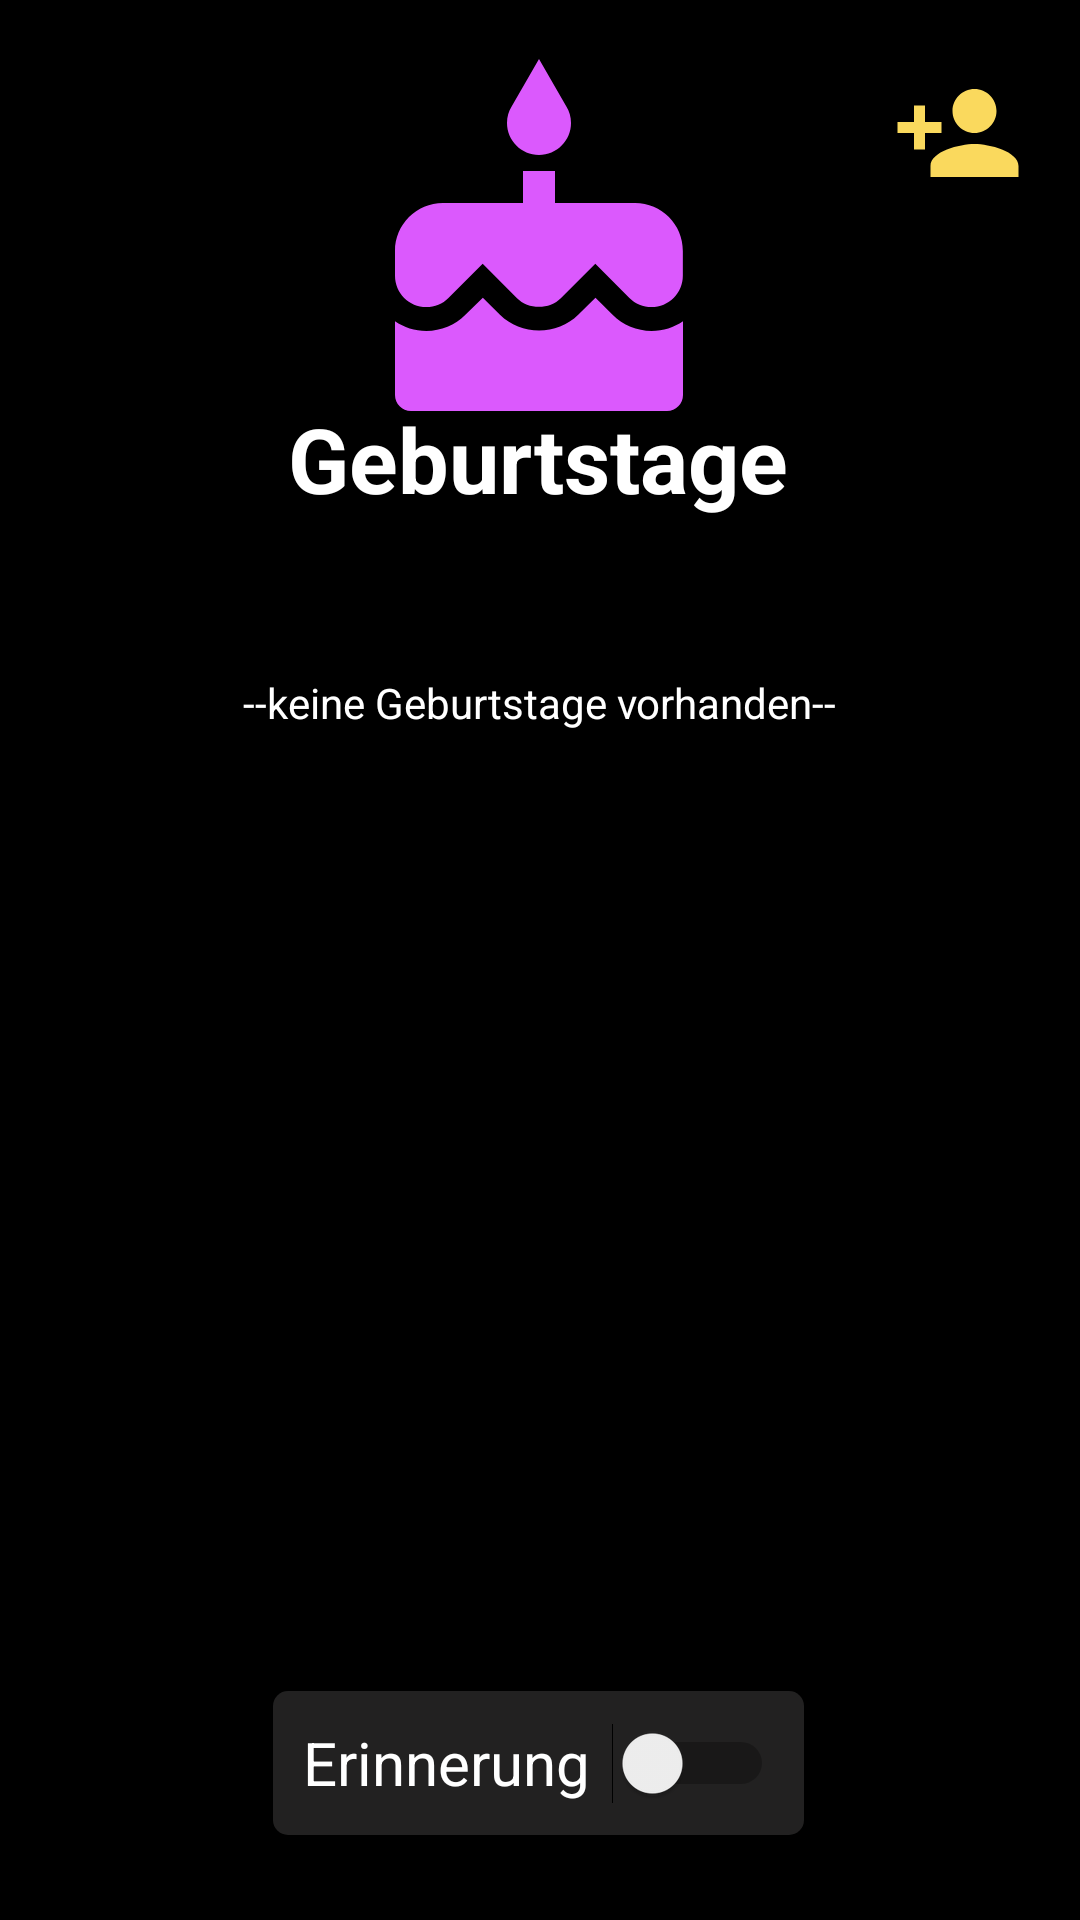

Locate icon controls on the screen. Image size 1080*1920, boxes as (x1, y1, x2, y2).
cake: (395, 59, 683, 411)
